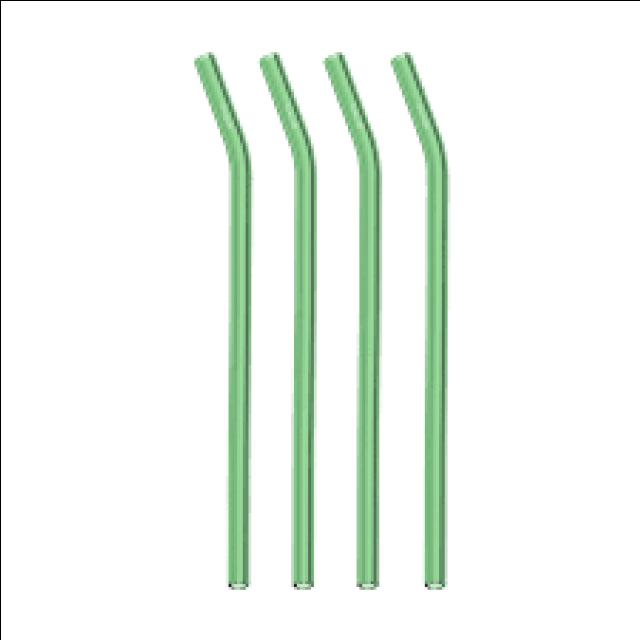straw: (391, 52, 446, 587)
